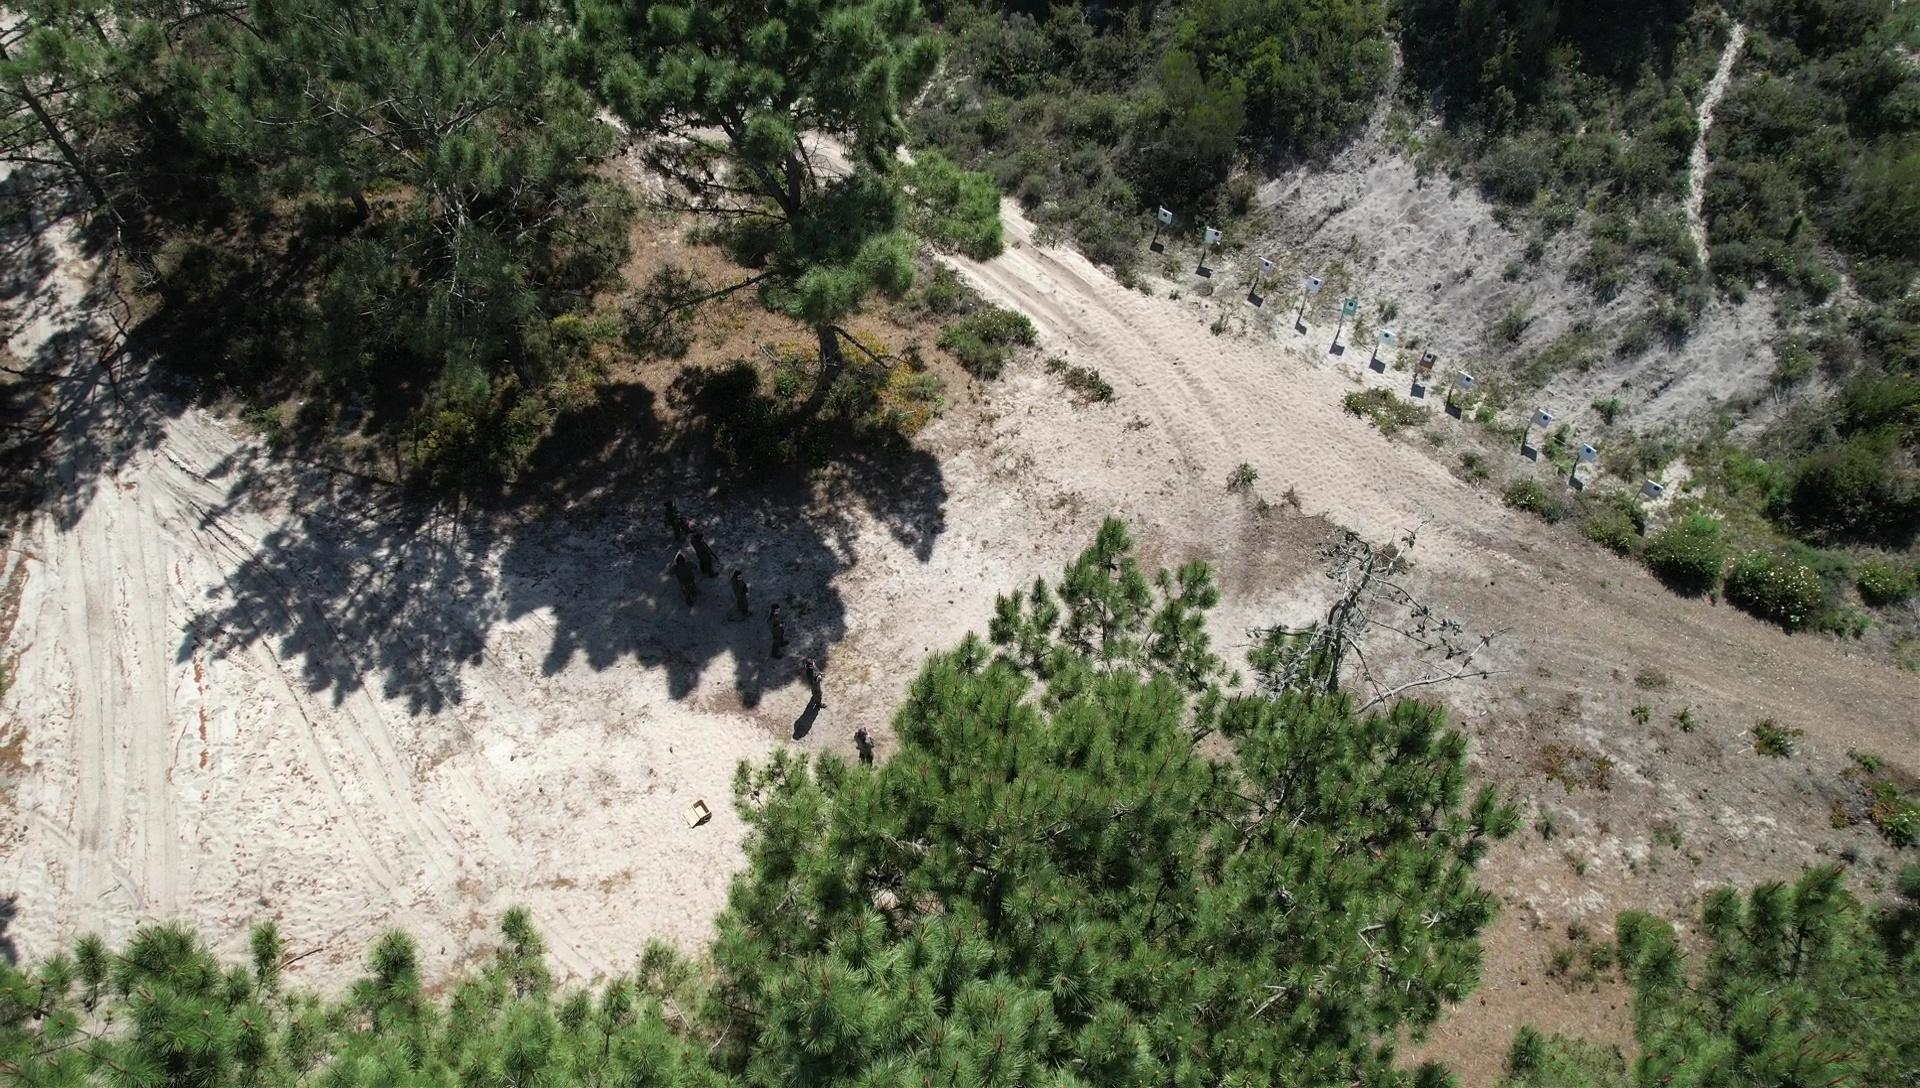Soldier: (673, 547, 705, 617), (760, 600, 794, 662), (796, 653, 831, 713), (690, 525, 721, 582), (651, 492, 690, 538), (727, 570, 757, 624)
